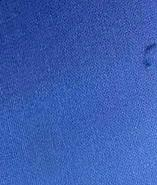knot: (140, 39, 156, 72)
